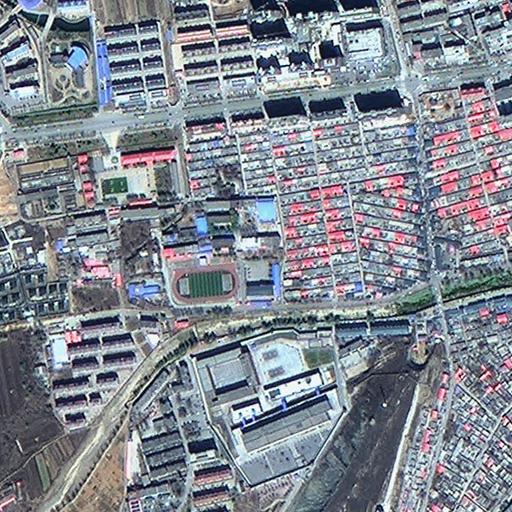school: (162, 198, 283, 305)
